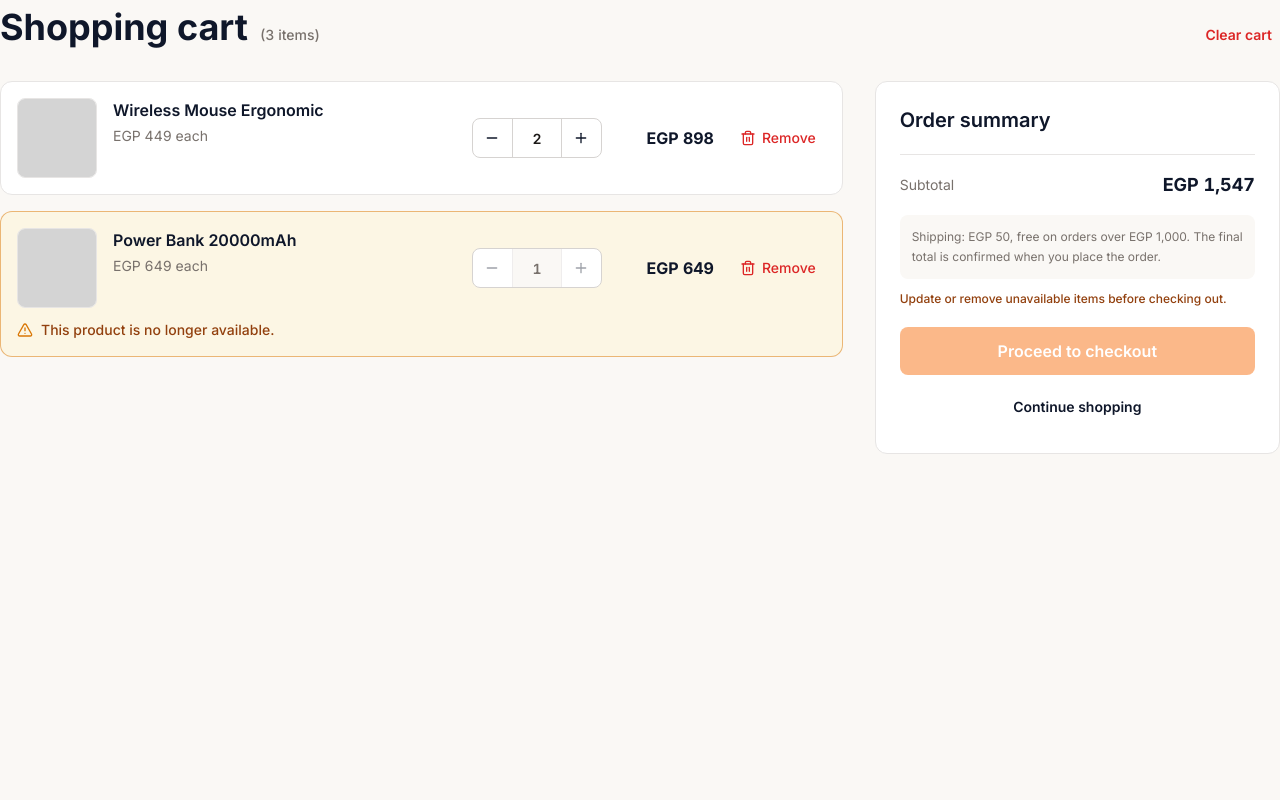
Test case: Cart page › updates item quantity, removes items, clears cart via modal, and blocks checkout on unavailable items
Expected: the heading "Shopping cart" is shown, [0,0,248,54]
Expected: the text "(3 items)" is shown, [260,25,320,45]
Click the button with aria-label "Remove Power Bank 20000mAh": (778, 268) [730,246,826,290]
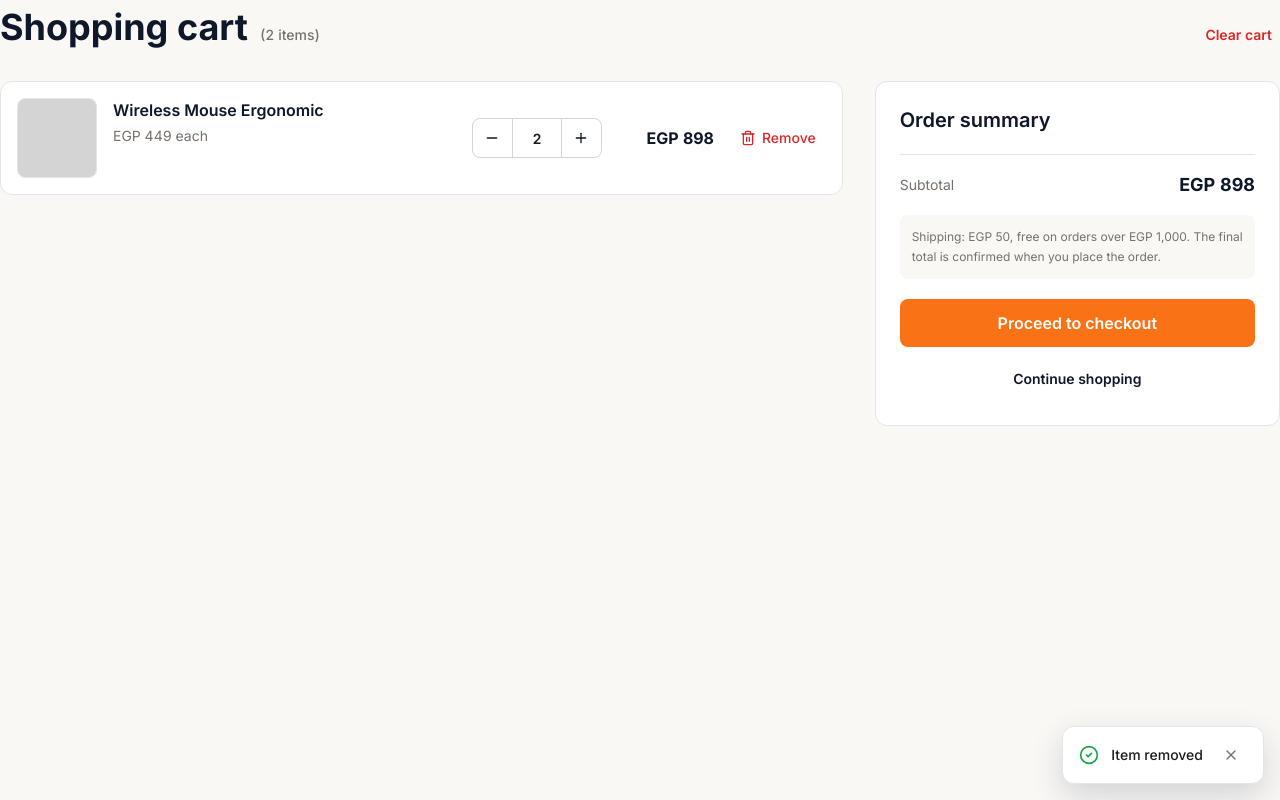
Now the text "Item removed" is shown, box [1111,745,1203,765]
Now the button "Proceed to checkout" is enabled, box [900,299,1255,347]
Click the button named "Increase quantity": (581, 138) [561,119,601,157]
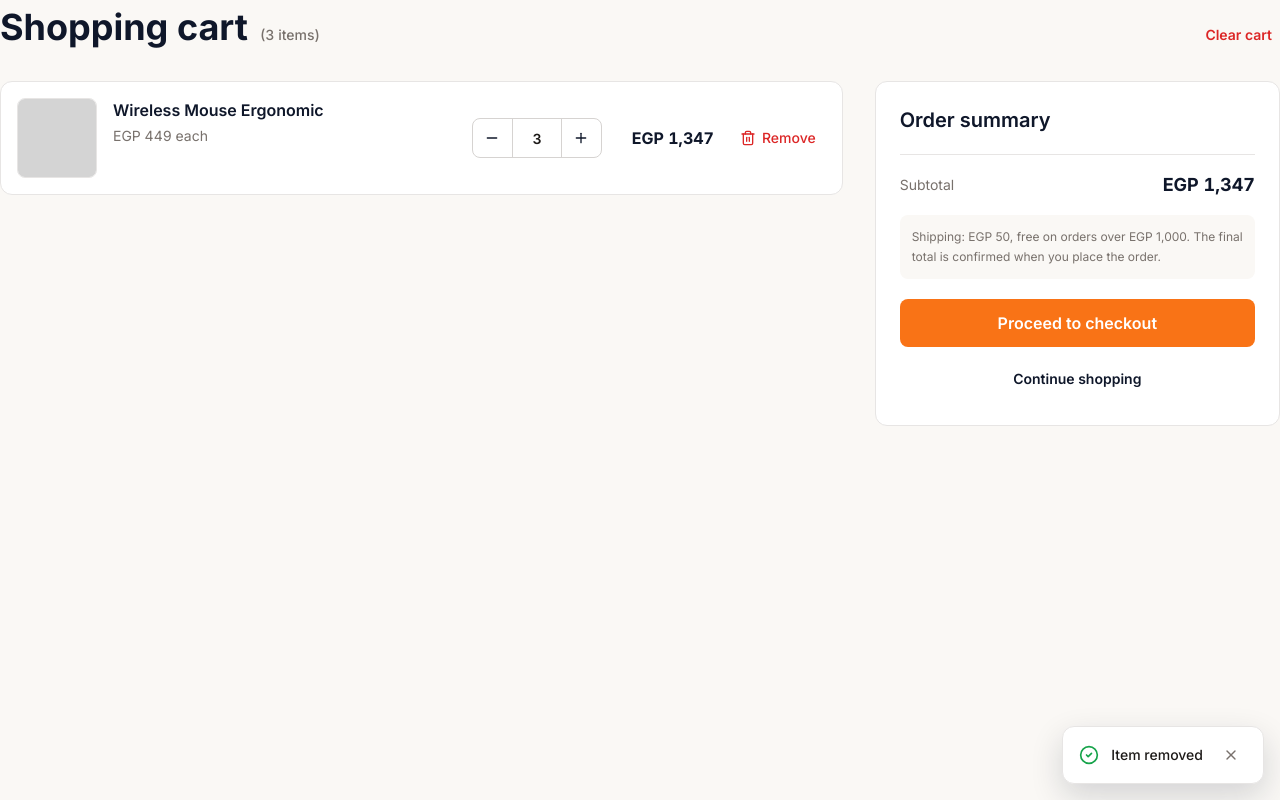
Now the text "(3 items)" is shown, box [260,25,320,45]
Open Clear cart modal and confirm
Click the button "Clear cart": (1239, 35) [1197,13,1279,57]
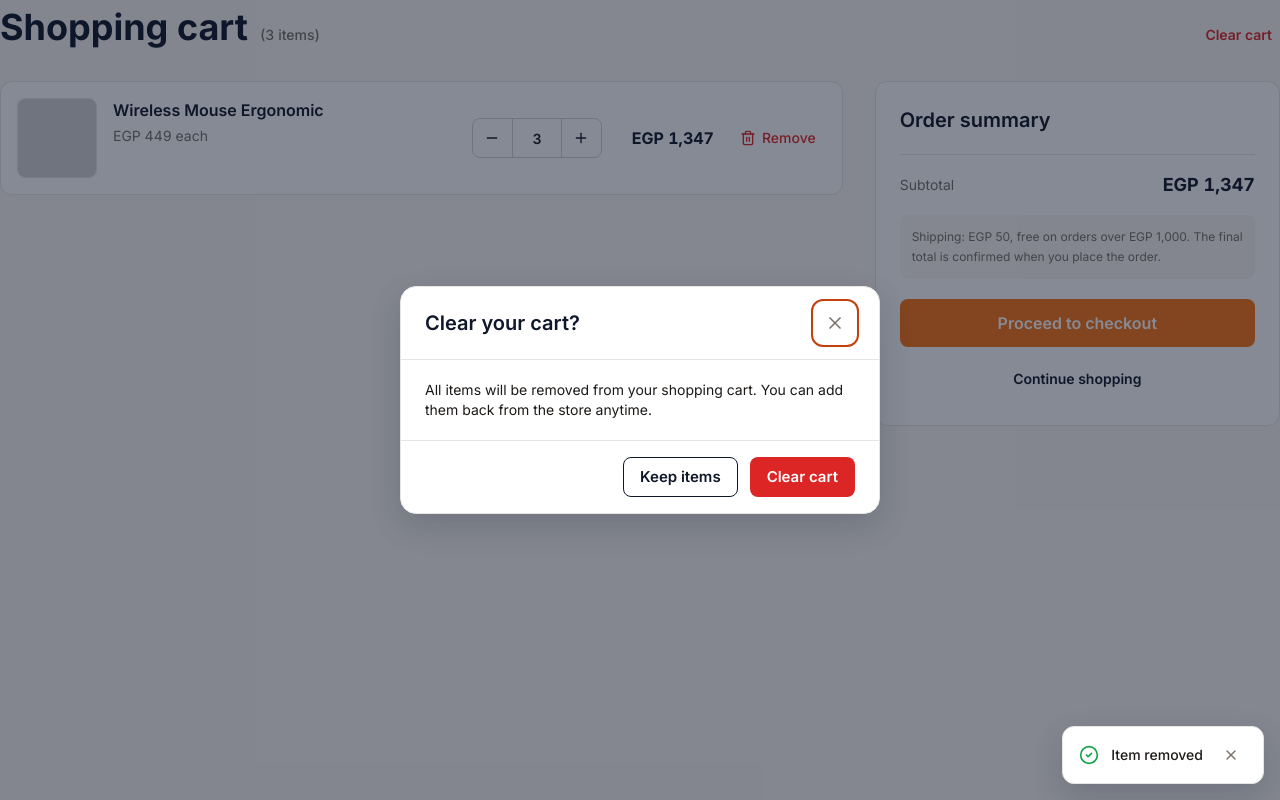
Click the button "Clear cart": (802, 477) [750,457,855,497]
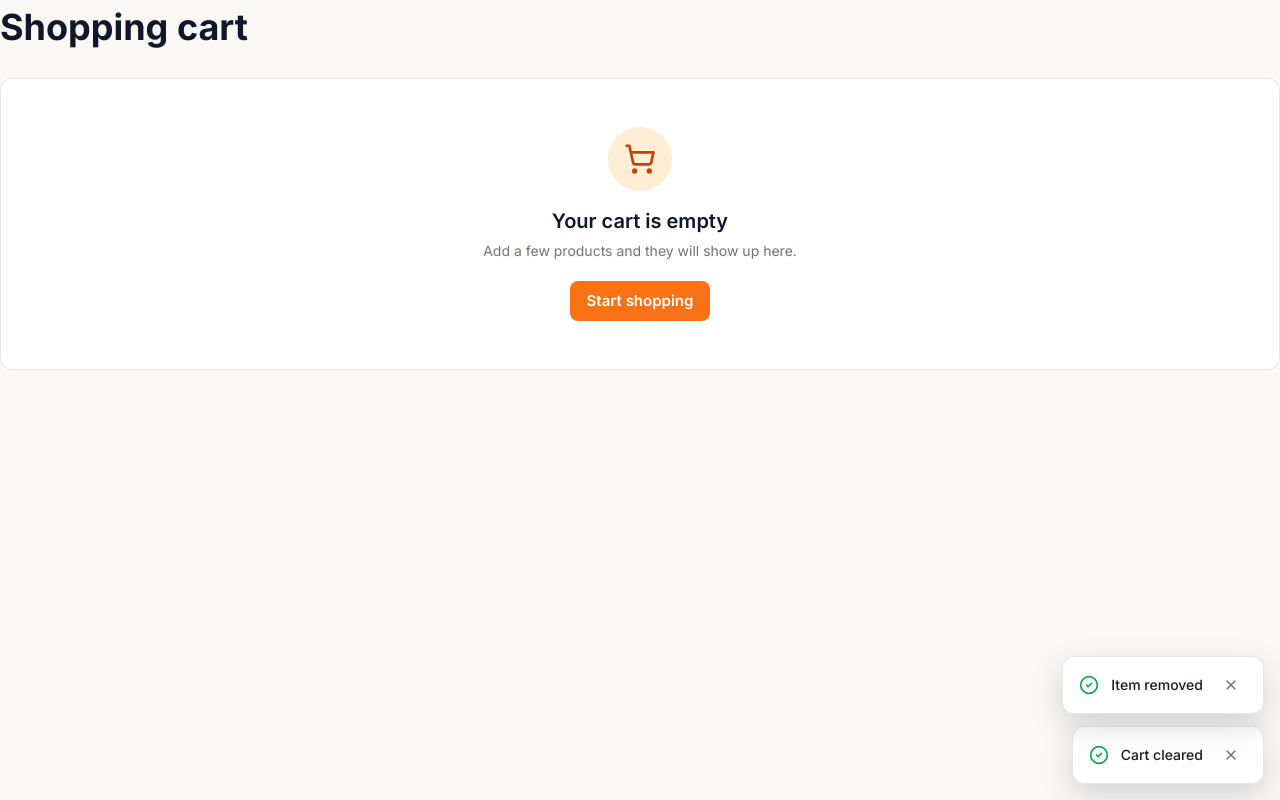
Now the text "Cart cleared" is shown, box [1121,745,1203,765]
Now the heading "Your cart is empty" is shown, box [552,207,728,235]
